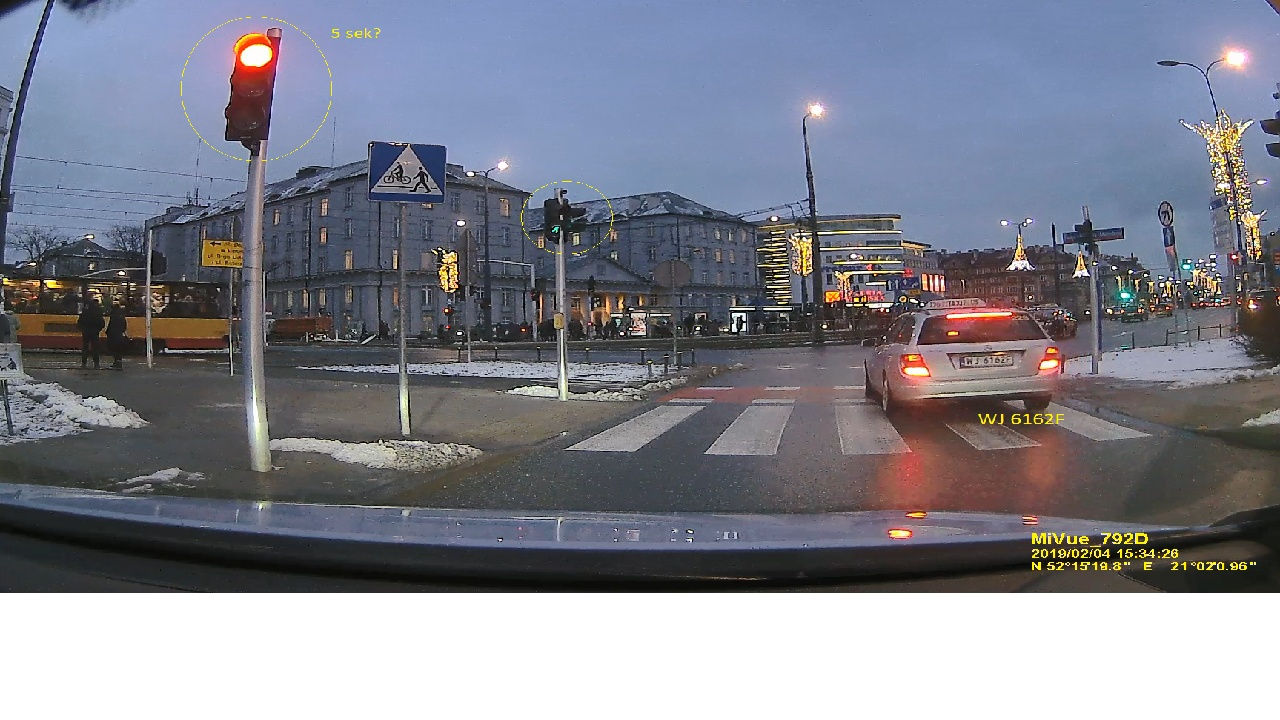D6b: (361, 137, 454, 205)
